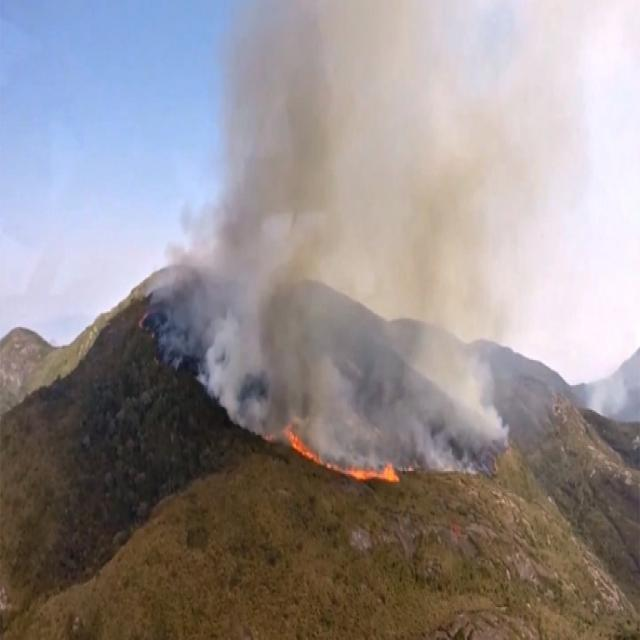Fire: (276, 429, 424, 492)
Smoke: (162, 22, 593, 434)
